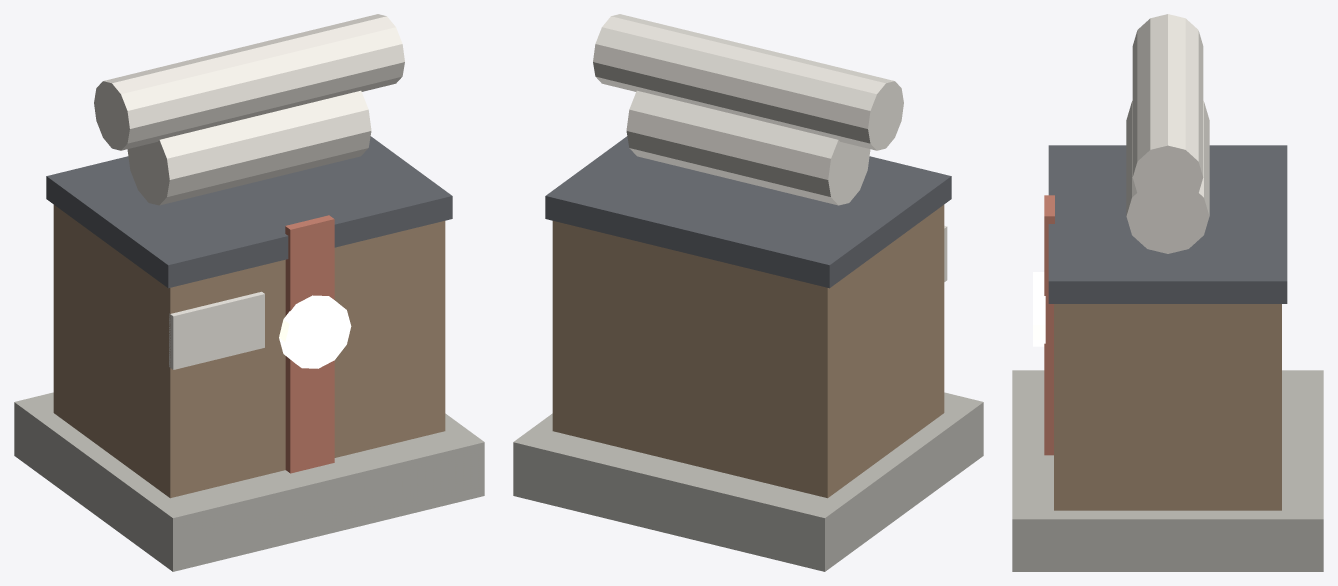
The model's file is LM12_Dossier.glb.
3 views of the same model, side by side, from view 1: azimuth 30°, elevation 25°; view 2: azimuth 150°, elevation 25°; view 3: azimuth 270°, elevation 25° (orthographic). The views are drawn at different scales.
Visible parts, largest first — view 1: Case, Base.003, CaseTrim, ScrollA, ScrollB, ScrollC, SealStrip, Label, Seal; view 2: Case, Base.003, CaseTrim, ScrollA, ScrollB, ScrollC; view 3: Case, Base.003, CaseTrim, ScrollC, ScrollB, ScrollA, SealStrip, Seal.
Part boxes in pixels (<box>): Case: <box>53,205,445,498</box>; Base.003: <box>14,392,484,571</box>; CaseTrim: <box>46,136,452,288</box>; ScrollA: <box>127,90,371,205</box>; ScrollB: <box>94,42,294,150</box>; ScrollC: <box>213,14,404,119</box>; SealStrip: <box>285,215,334,473</box>; Label: <box>169,291,264,369</box>; Seal: <box>279,295,351,368</box>; Case: <box>552,205,944,498</box>; Base.003: <box>513,392,983,571</box>; CaseTrim: <box>545,136,951,288</box>; ScrollA: <box>626,90,870,205</box>; ScrollB: <box>703,43,903,150</box>; ScrollC: <box>593,14,783,116</box>; Case: <box>1054,304,1281,510</box>; Base.003: <box>1012,370,1323,571</box>; CaseTrim: <box>1048,145,1287,303</box>; ScrollC: <box>1132,91,1203,209</box>; ScrollB: <box>1132,14,1203,124</box>; ScrollA: <box>1126,101,1209,253</box>; SealStrip: <box>1044,195,1054,455</box>; Seal: <box>1033,272,1045,346</box>.
Bounding box in the file's own units: 1.7 × 2.22 × 1.5.
